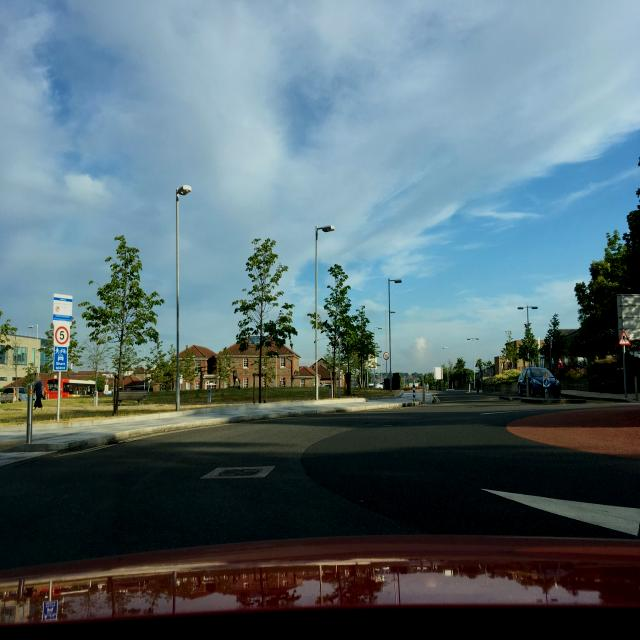car: (518, 366, 562, 399), (0, 385, 30, 403)
